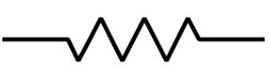resistor: (59, 8, 206, 75)
